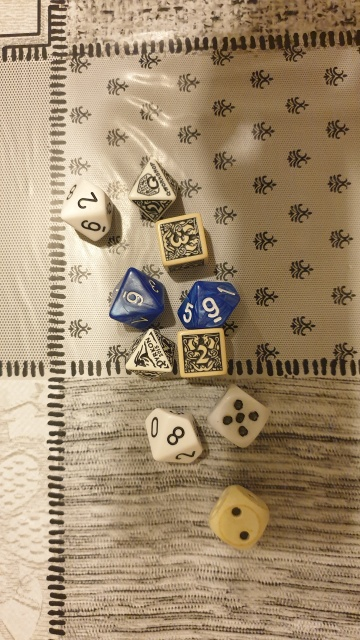d10-2: (54, 176, 115, 247)
d10-6: (107, 268, 164, 324)
d10-8: (140, 399, 207, 474)
d10-9: (173, 275, 247, 332)
d6-2: (204, 478, 277, 556)
d6-5: (205, 380, 270, 447)
d6p-2: (172, 324, 234, 384)
d6p-3: (151, 213, 218, 272)
d8p-1: (121, 327, 176, 383)
d8p-8: (125, 153, 187, 226)
